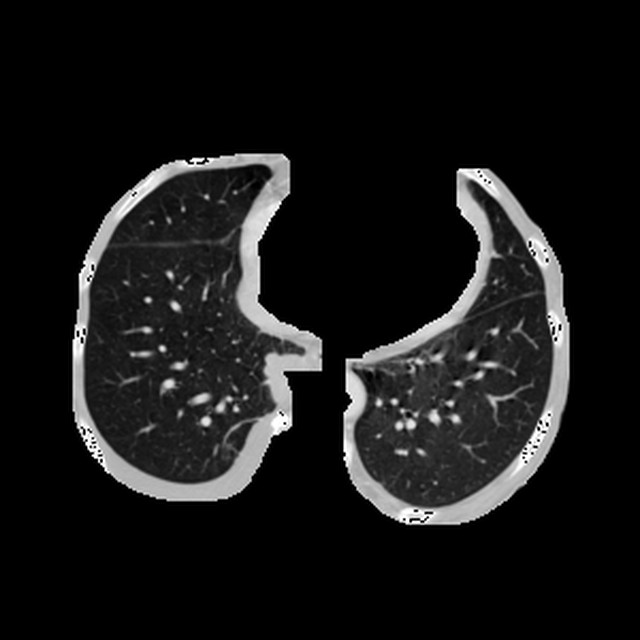PN: (258, 350, 309, 401)
